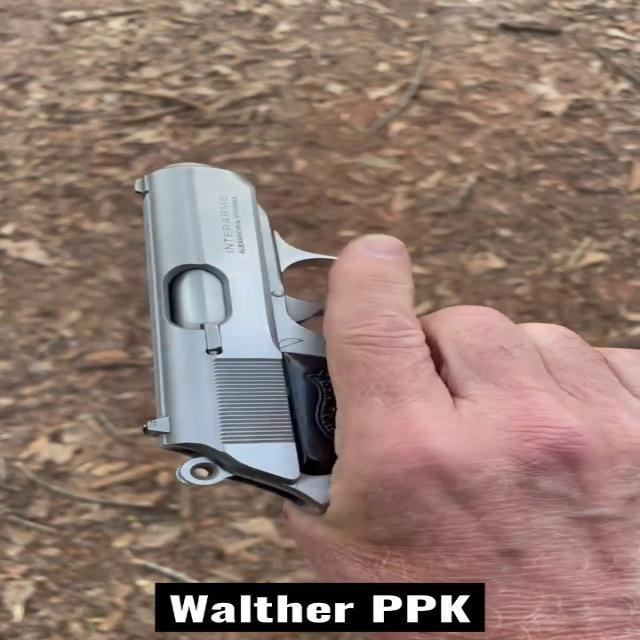Handgun: (98, 148, 640, 546)
